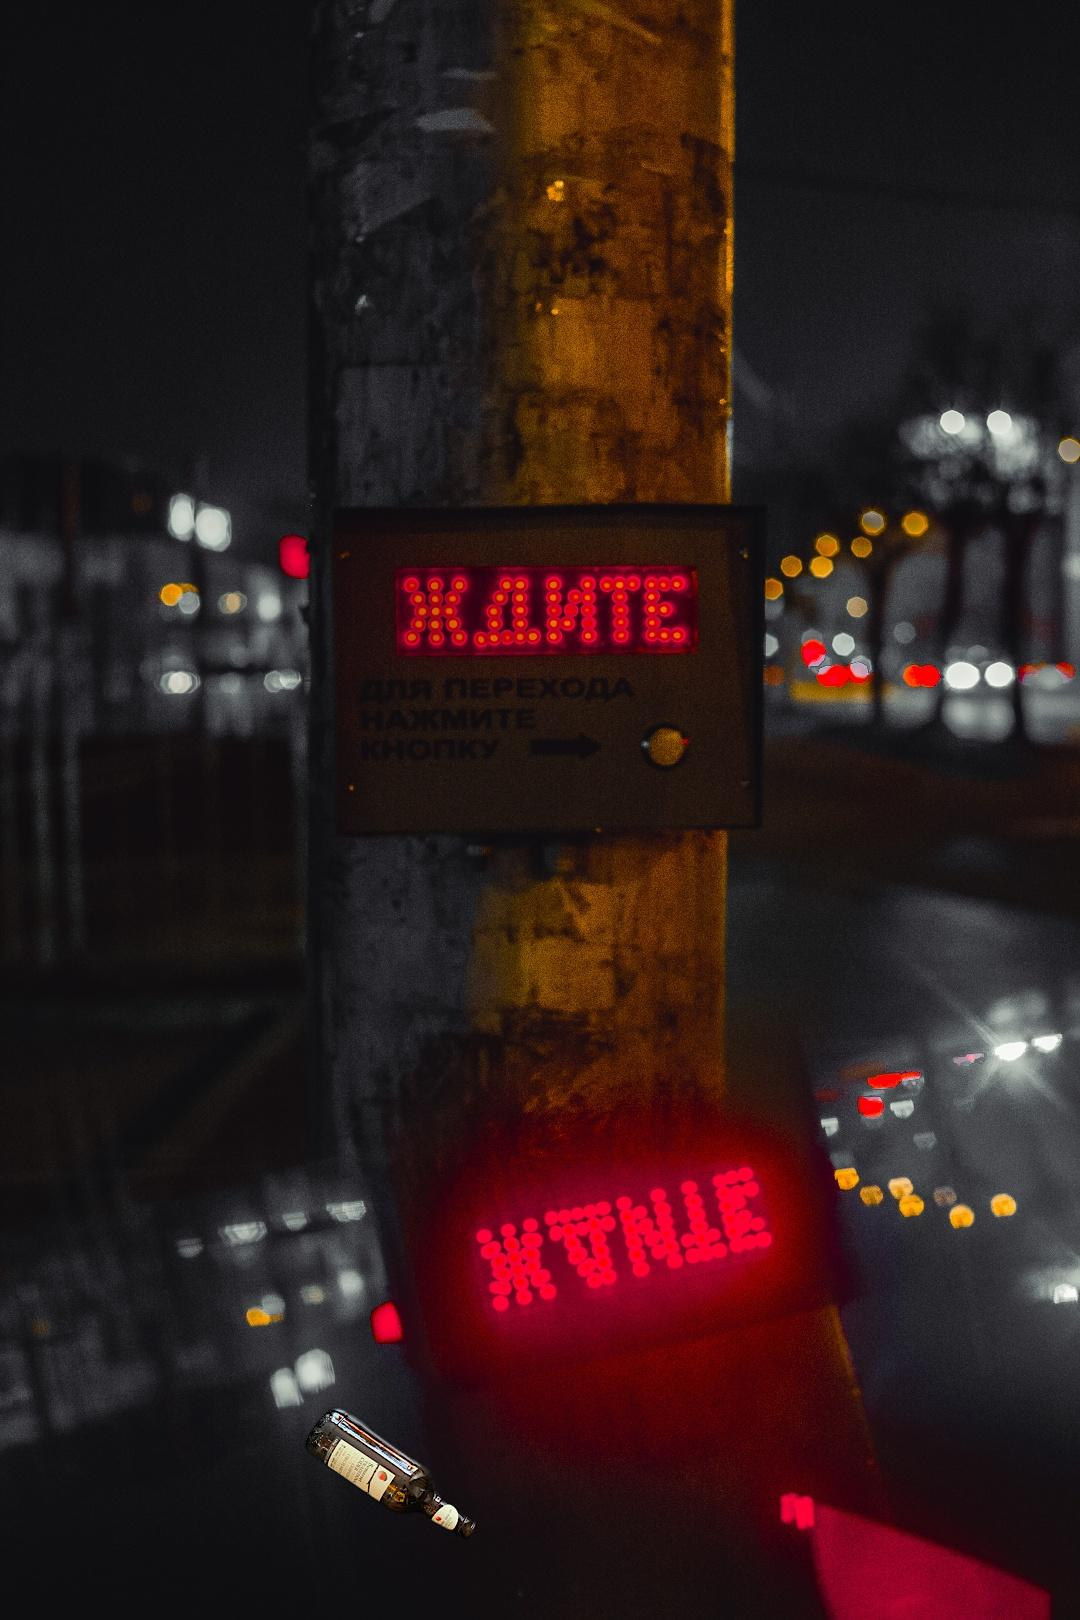glass: (301, 1401, 481, 1545)
